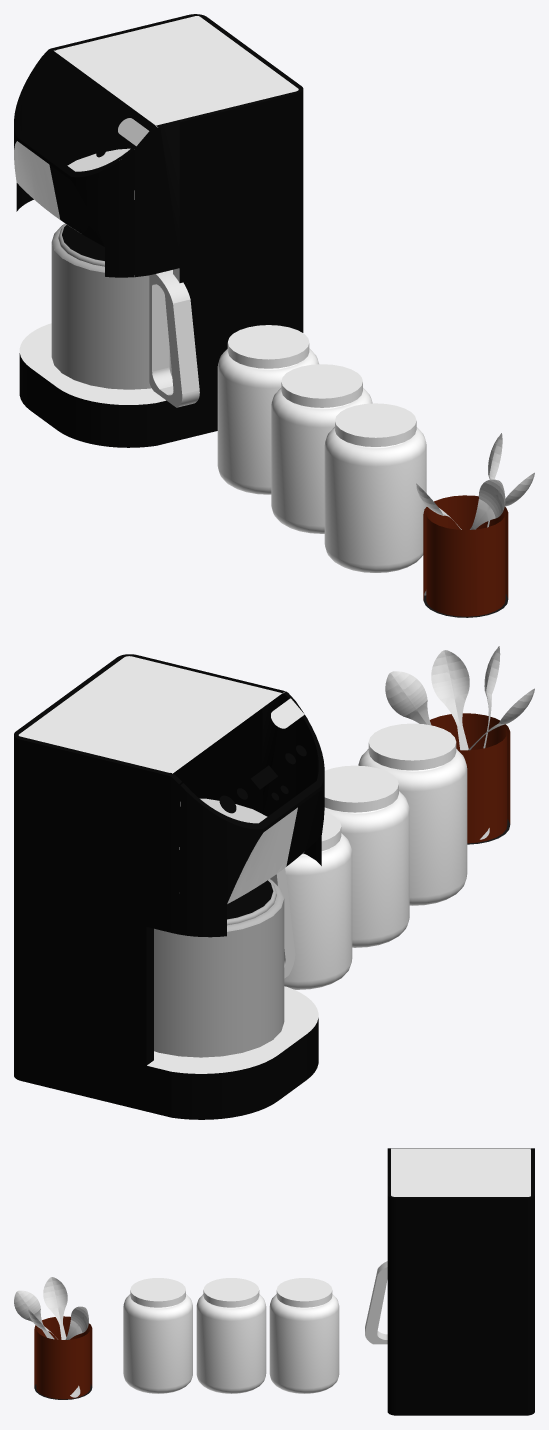
Rendered from Coffe.fbx.
3 renders of one model, top to bottom at view 1: azimuth 30°, elevation 25°; view 2: azimuth 150°, elevation 25°; view 3: azimuth 270°, elevation 25°, orthographic. The views are drawn at different scales.
Parts seen in each view (by area): view 1: Krups 5055 Coffee Maker_001, Group_008, Glass Carafe_001, Group_010, Group_006, Component#252_001, Carafe Handle_001, Group_013; view 2: Krups 5055 Coffee Maker_001, Glass Carafe_001, Group_008, Group_006, Group_010, Component#252_001, Group_015, Group_016, Carafe Handle_001, Group_001, Group_013, Group_002 (+1 smaller); view 3: Krups 5055 Coffee Maker_001, Group_010, Group_006, Group_008, Component#252_001, Carafe Handle_001, Group_012, Group_013, Group_016.
Boxes of the visible parts, <box> form: Krups 5055 Coffee Maker_001: <box>14,14,303,447</box>; Group_008: <box>324,403,426,572</box>; Glass Carafe_001: <box>51,223,172,389</box>; Group_010: <box>217,325,318,494</box>; Group_006: <box>271,364,372,533</box>; Component#252_001: <box>423,495,508,617</box>; Carafe Handle_001: <box>149,270,199,407</box>; Group_013: <box>470,479,505,529</box>; Krups 5055 Coffee Maker_001: <box>14,654,324,1119</box>; Glass Carafe_001: <box>154,879,284,1057</box>; Group_008: <box>358,723,467,905</box>; Group_006: <box>324,765,409,947</box>; Group_010: <box>284,812,352,989</box>; Component#252_001: <box>430,713,510,844</box>; Group_015: <box>431,650,489,839</box>; Group_016: <box>385,671,431,725</box>; Carafe Handle_001: <box>270,868,295,978</box>; Group_001: <box>179,798,267,849</box>; Group_013: <box>483,646,500,748</box>; Group_002: <box>271,698,304,728</box>; Krups 5055 Coffee Maker_001: <box>387,1148,534,1415</box>; Group_010: <box>269,1278,339,1393</box>; Group_006: <box>196,1278,266,1393</box>; Group_008: <box>123,1278,192,1393</box>; Component#252_001: <box>34,1316,92,1399</box>; Carafe Handle_001: <box>365,1261,387,1344</box>; Group_012: <box>43,1277,80,1397</box>; Group_013: <box>14,1290,54,1339</box>; Group_016: <box>65,1306,88,1339</box>.
Bounding box in the file's own units: 229 × 330 × 718.
